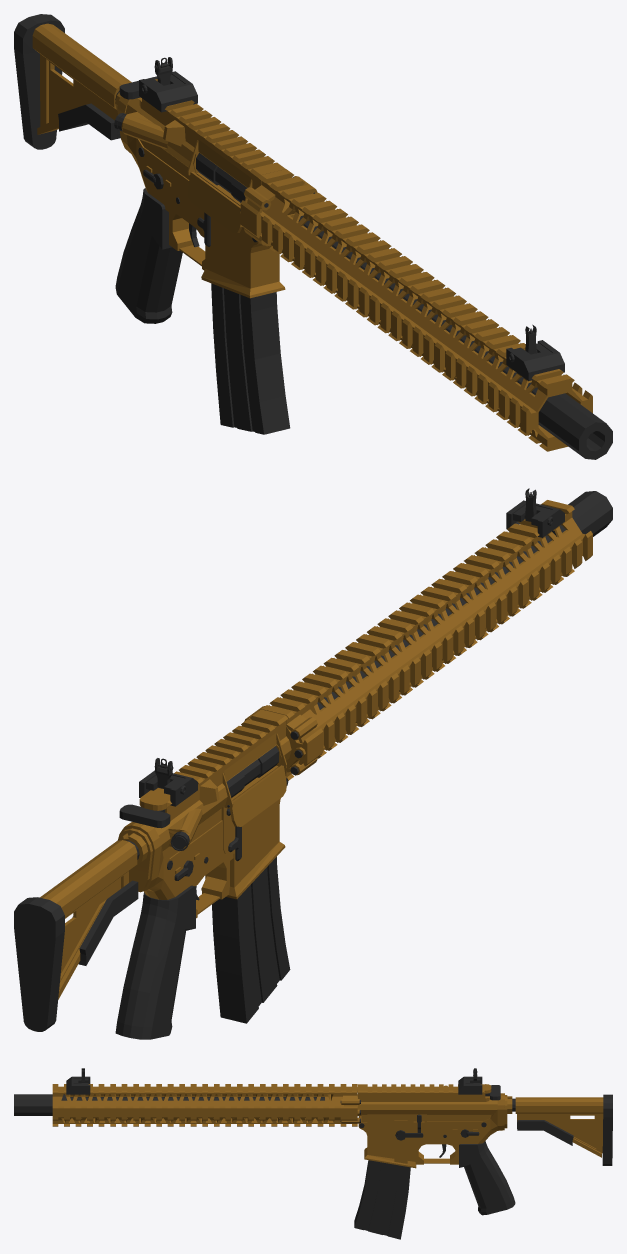
Rendered from Supressed_M4.glb.
The picture shows the model from 3 angles, top to bottom: view 1: azimuth 30°, elevation 25°; view 2: azimuth 150°, elevation 25°; view 3: azimuth 270°, elevation 25°; orthographic projection. The views are drawn at different scales.
Visible parts, largest first — view 1: Handguard.001, Body.001, Stock.001, Mag.001, Barrel.001, RearSight.002, RearSight.003; view 2: Body.001, Handguard.001, Stock.001, Mag.001, Barrel.001, RearSight.002, RearSight.003; view 3: Body.001, Handguard.001, Stock.001, Mag.001, Barrel.001, RearSight.002, RearSight.003.
Boxes of the visible parts, bbox=[...] form: Handguard.001: bbox=[240, 169, 592, 451]; Body.001: bbox=[114, 76, 285, 323]; Stock.001: bbox=[14, 14, 131, 149]; Mag.001: bbox=[211, 283, 290, 434]; Barrel.001: bbox=[298, 215, 612, 459]; RearSight.002: bbox=[139, 57, 197, 112]; RearSight.003: bbox=[506, 324, 564, 381]; Body.001: bbox=[115, 709, 291, 1039]; Handguard.001: bbox=[241, 500, 592, 780]; Stock.001: bbox=[14, 840, 138, 1031]; Mag.001: bbox=[212, 857, 290, 1023]; Barrel.001: bbox=[317, 491, 612, 709]; RearSight.002: bbox=[139, 758, 197, 806]; RearSight.003: bbox=[506, 488, 564, 537]; Body.001: bbox=[357, 1084, 515, 1215]; Handguard.001: bbox=[52, 1084, 360, 1126]; Stock.001: bbox=[515, 1094, 612, 1165]; Mag.001: bbox=[354, 1160, 410, 1239]; Barrel.001: bbox=[14, 1094, 324, 1115]; RearSight.002: bbox=[458, 1068, 482, 1094]; RearSight.003: bbox=[66, 1068, 90, 1094].
Bounding box in the file's own units: 0.9794 × 4.16 × 13.52.
